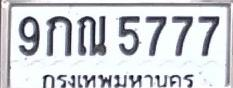5: (117, 15, 140, 56)
7: (171, 14, 193, 56), (198, 14, 220, 56), (145, 14, 167, 56)
9: (17, 15, 40, 56)
A01: (46, 14, 72, 56)
A19: (77, 14, 107, 56)
BKK: (39, 68, 199, 88)
